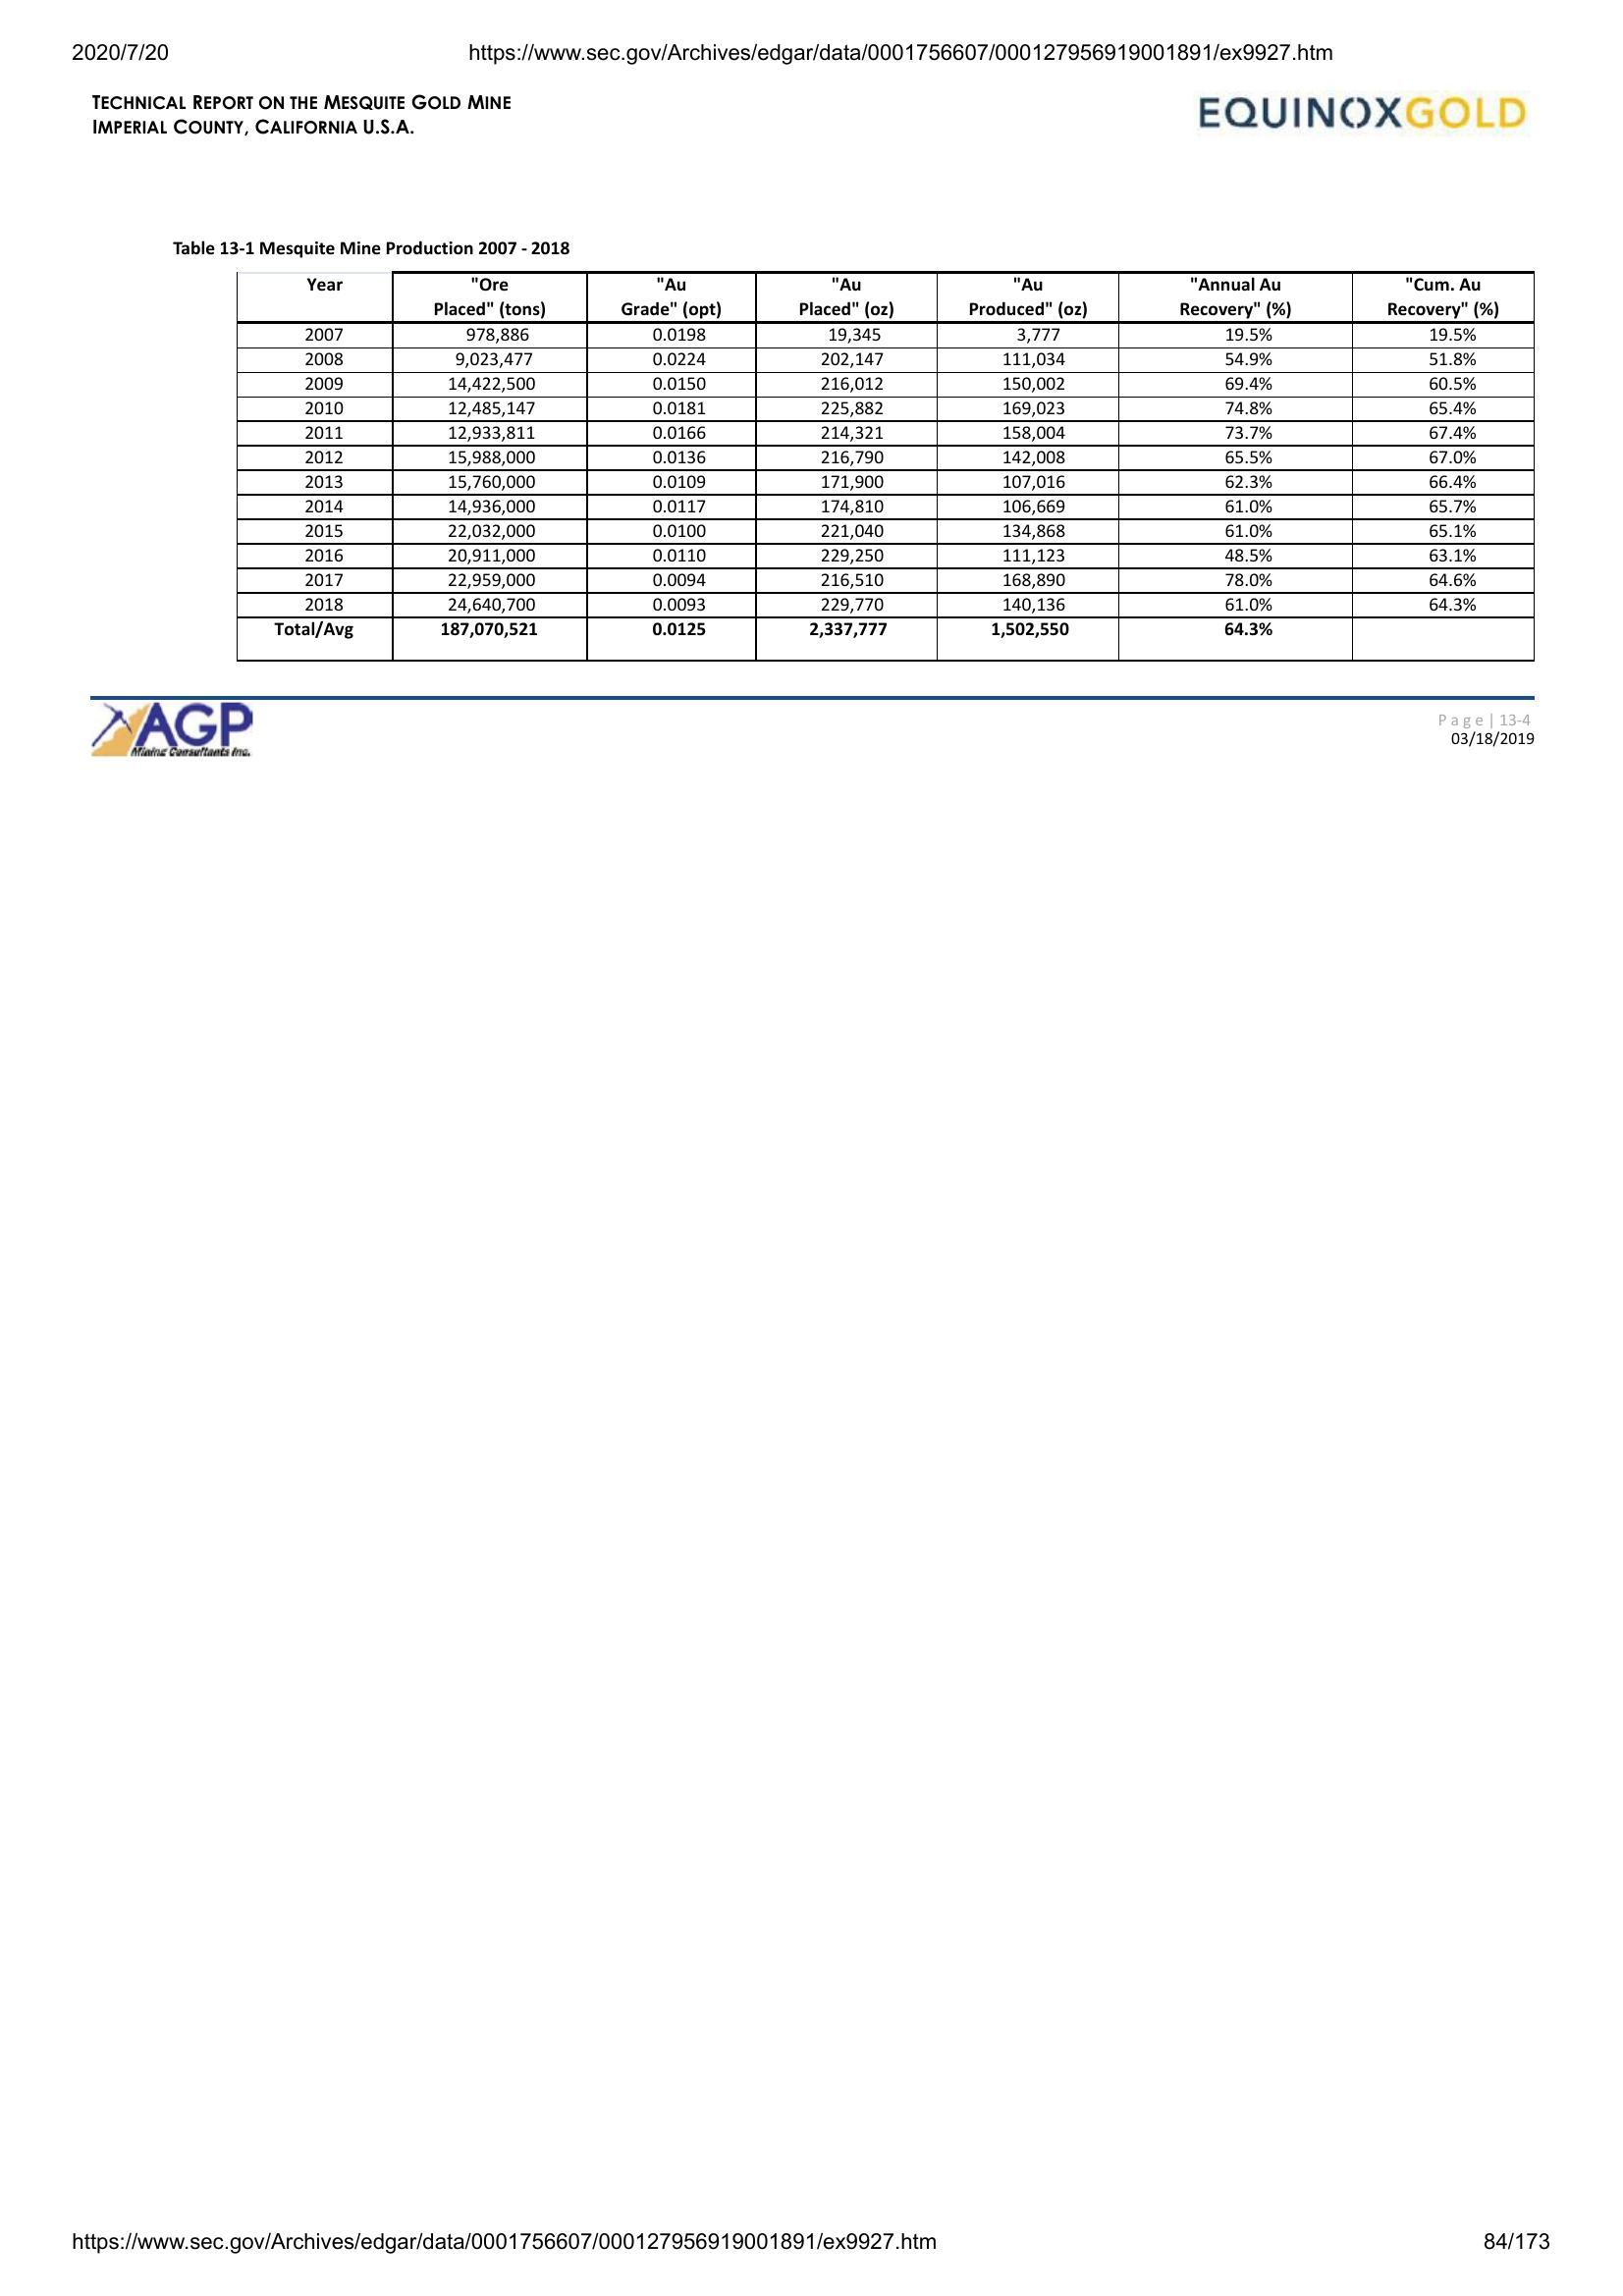table: (232, 267, 1539, 669)
